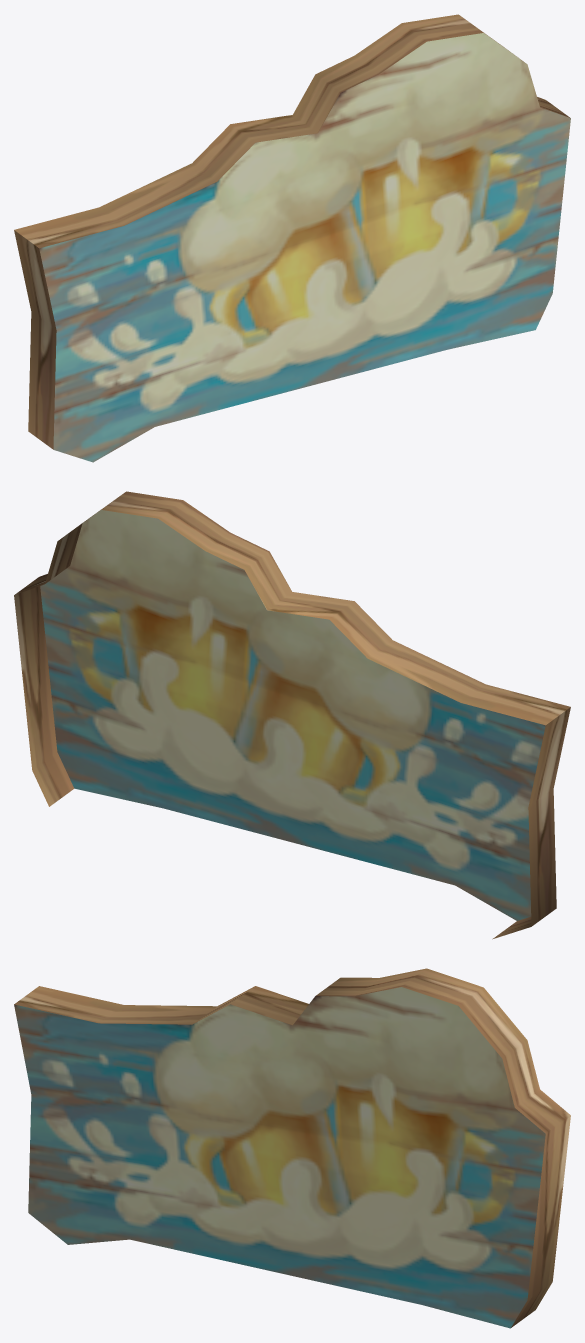
Rendered from Map_05_wooden010.FBX.
3 renders of one model, top to bottom at view 1: azimuth 30°, elevation 25°; view 2: azimuth 150°, elevation 25°; view 3: azimuth 330°, elevation 25°, orthographic.
Parts seen in each view (by area): view 1: Map_05_wooden010; view 2: Map_05_wooden010; view 3: Map_05_wooden010.
Part boxes in pixels (x1,y1,x2,y2): Map_05_wooden010: [14, 14, 570, 462]; Map_05_wooden010: [14, 491, 570, 939]; Map_05_wooden010: [14, 968, 570, 1328].
Bounding box in the file's own units: 433 × 264 × 35.6.
